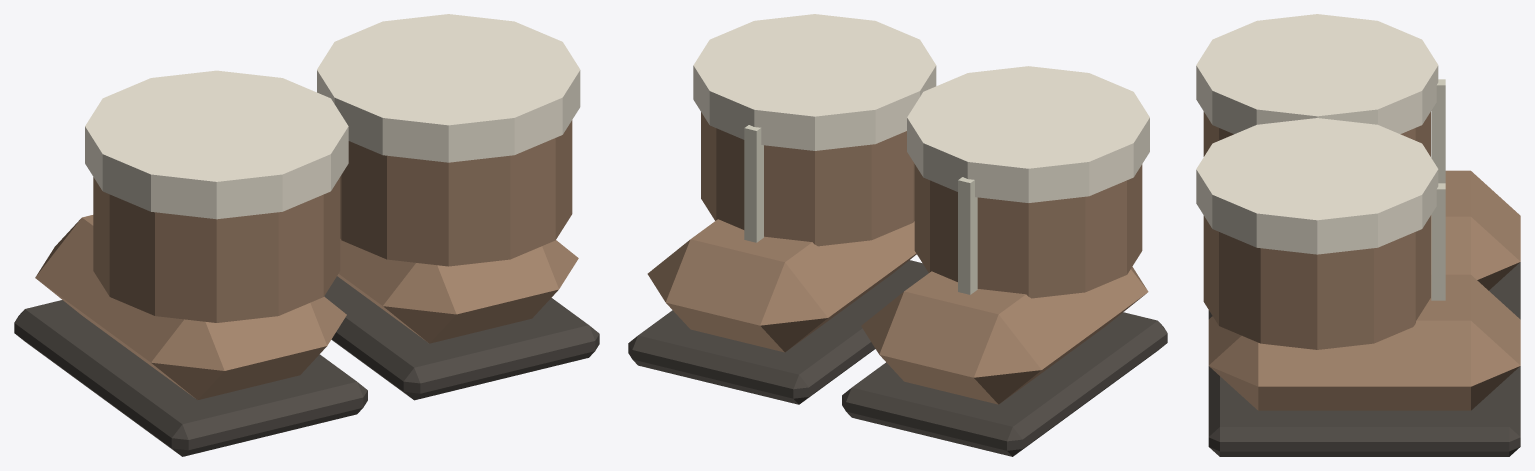
The model's file is shoes_boty.glb.
3 renders of one model, left to right at view 1: azimuth 30°, elevation 25°; view 2: azimuth 150°, elevation 25°; view 3: azimuth 270°, elevation 25°, orthographic. The views are drawn at different scales.
Visible parts, largest first — view 1: LegL, LegR; view 2: LegL, LegR; view 3: LegR, LegL.
Boxes of the visible parts, x1,y1,x2,y2 form: LegL: (14,70,367,456); LegR: (317,14,599,400); LegL: (842,66,1167,456); LegR: (628,14,936,404); LegR: (1196,118,1520,456); LegL: (1196,14,1520,319).
Bounding box in the file's own units: 0.516 × 0.29 × 0.343.
